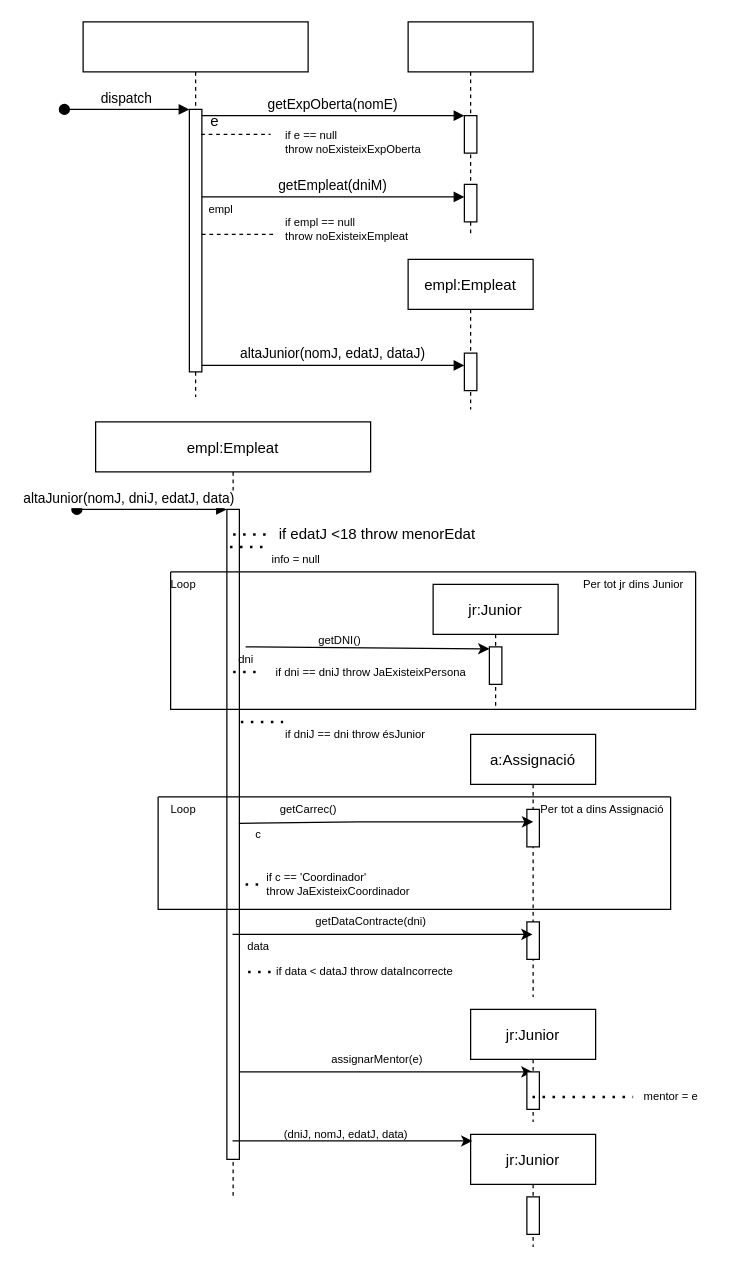
The diagram is 729 pixels wide and 1269 high, and some of its shapes have lost their labels. Each missing label, with the box of its shape:
:TxaltaJunior: (82, 21, 308, 397)
Capa Dades: (407, 21, 533, 234)
